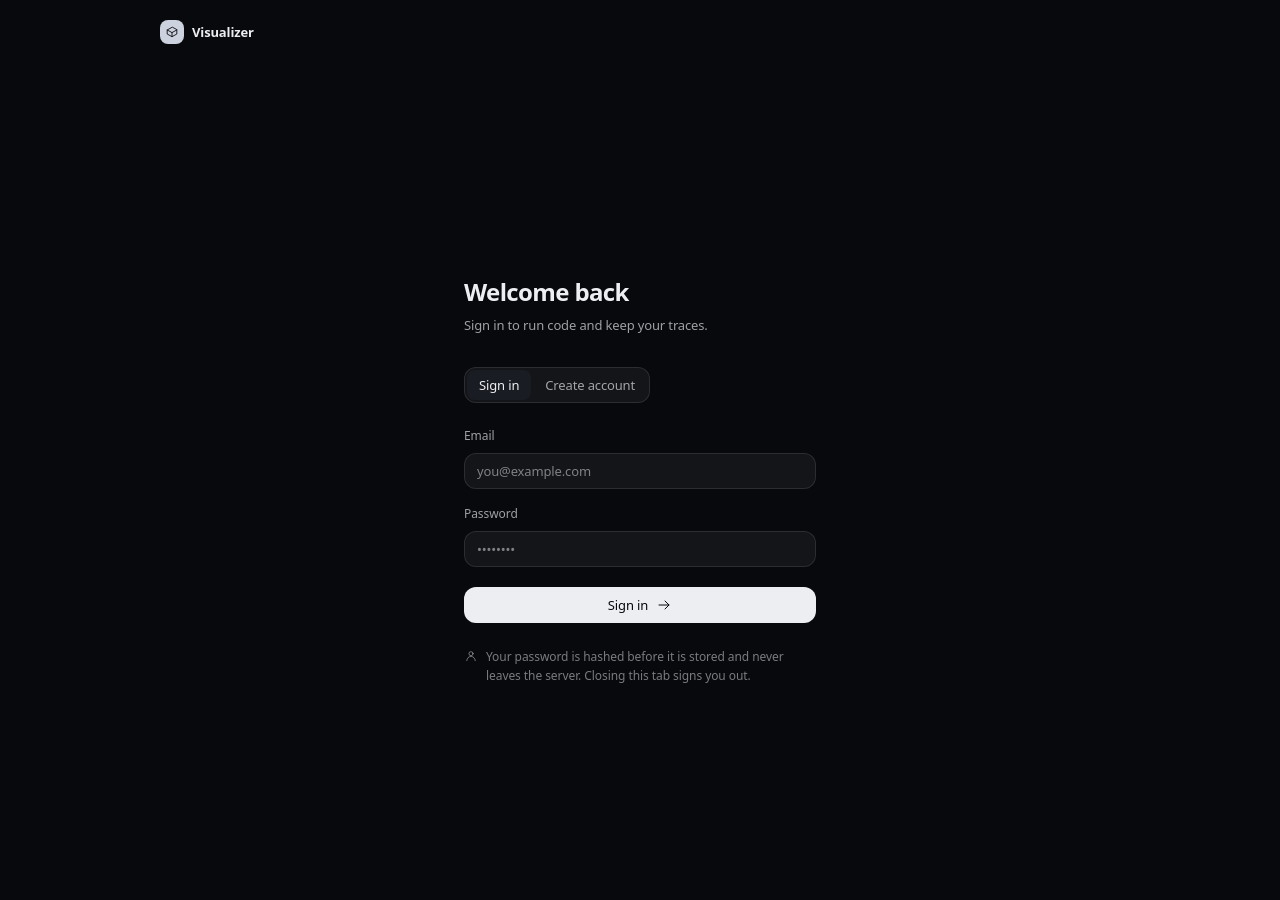
Scenario: sign in › signs in and opens the workspace
In the field labelled "Email": [640, 471] box [464,453,816,489], type "ada@example.com"
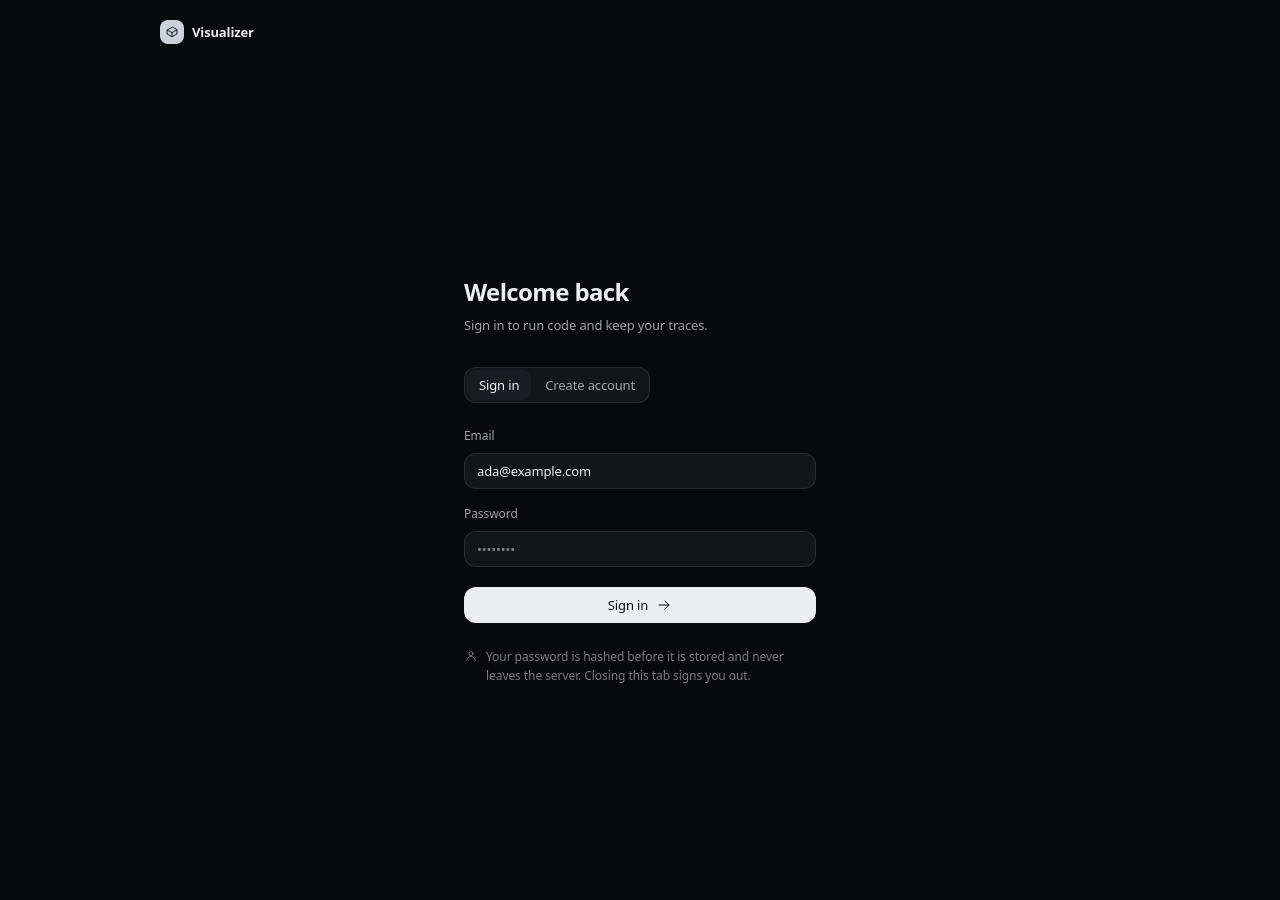
In the password field labelled "Password": [640, 549] box [464,531,816,567], type "hunter2!!"
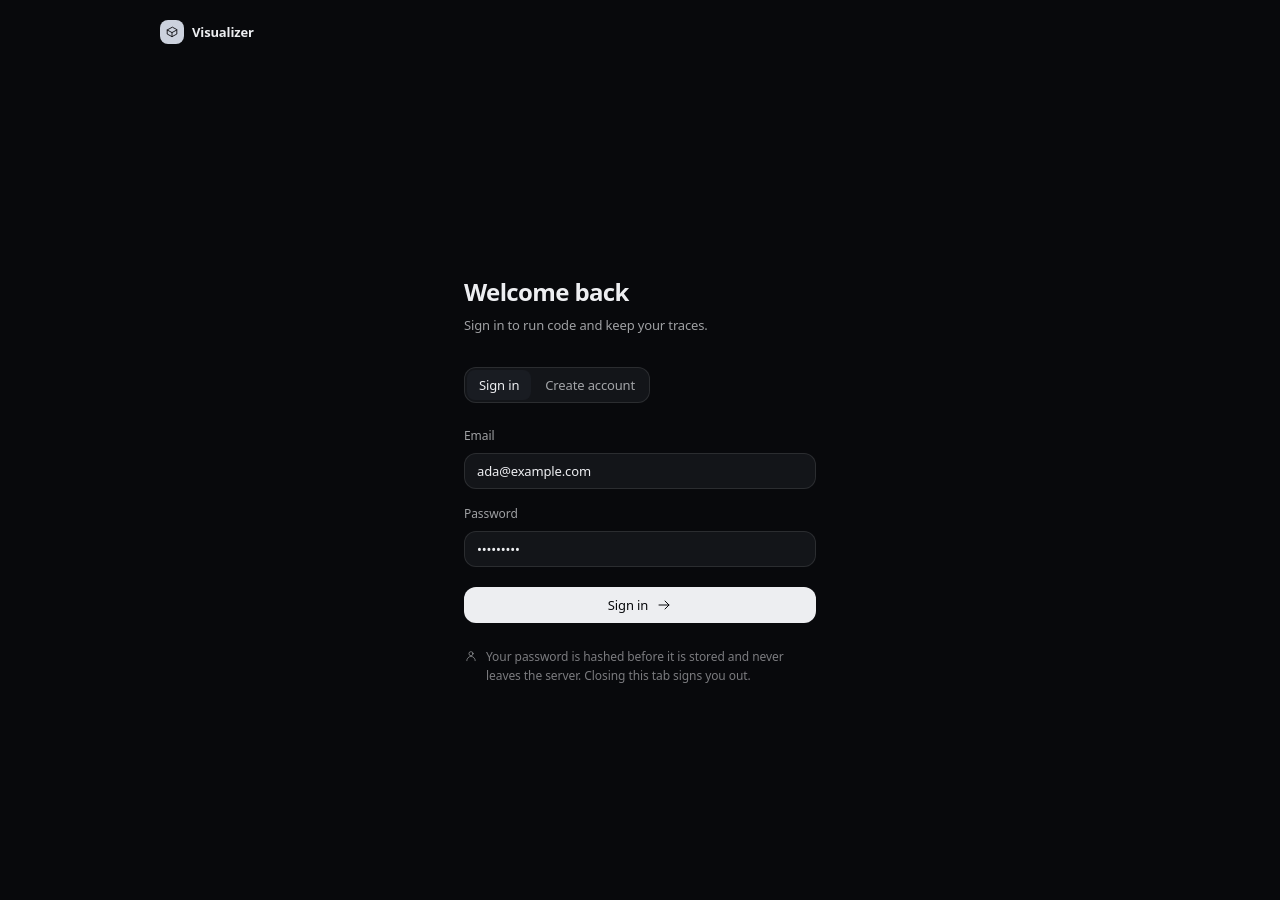
Click the button "Sign in" below "Email": [640, 605] box [464,587,816,623]
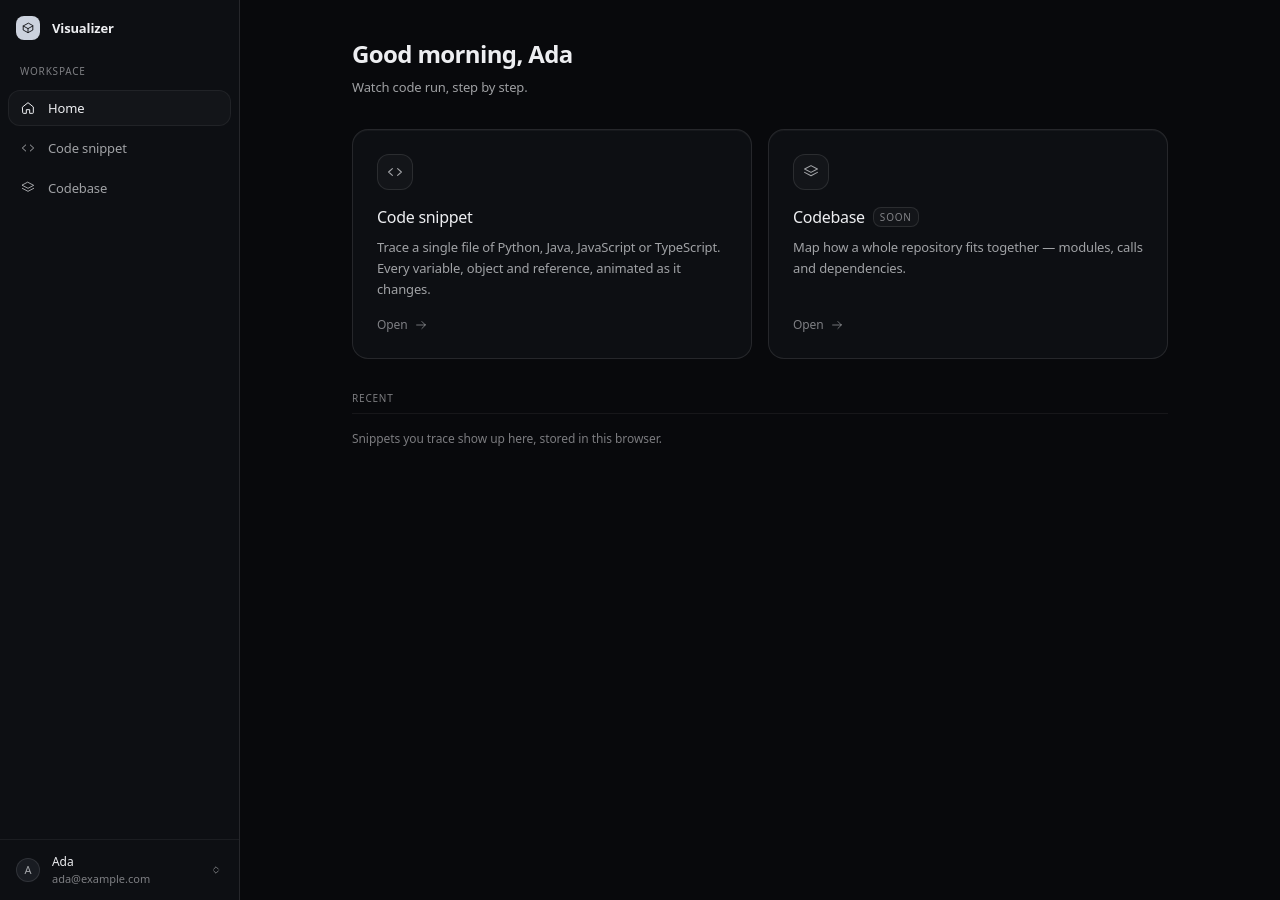
expect the navigation bar is shown: met, box [8,64,231,197]
expect the text "ada@example.com" is shown: met, box [52,871,150,886]
expect the text "Ada" is shown: met, box [52,853,74,870]
